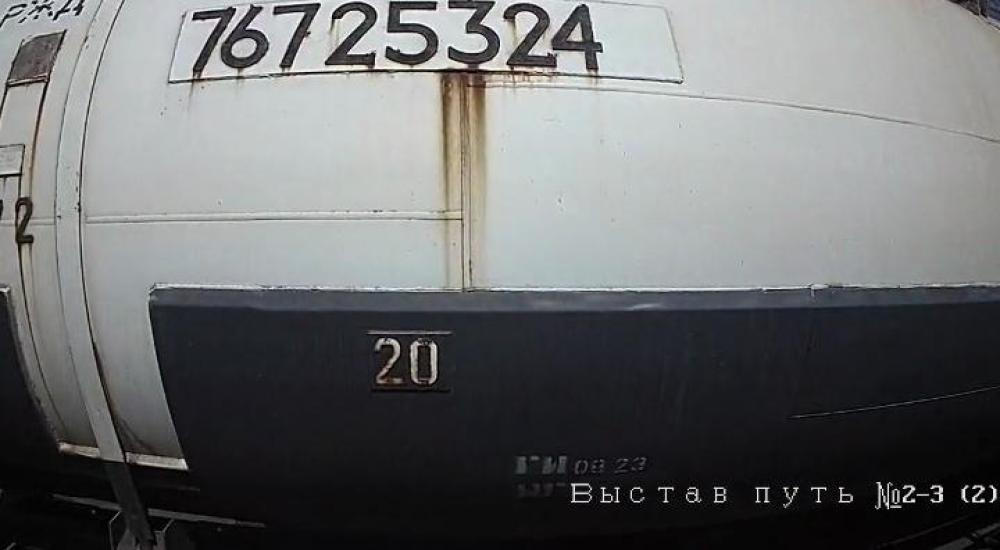Wagon-number: (177, 0, 610, 76)
